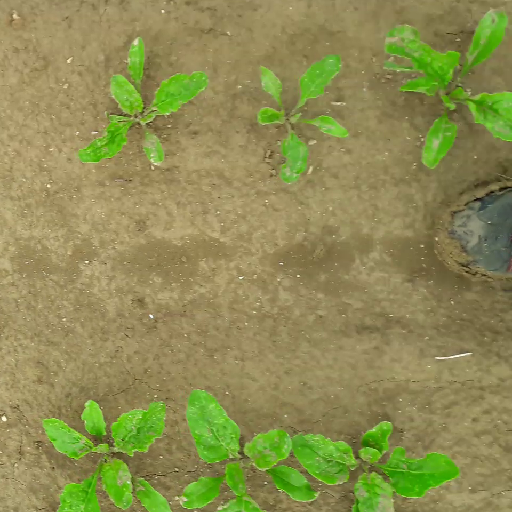sugarbeet: (376, 4, 512, 171), (75, 32, 212, 167), (177, 387, 324, 512), (292, 414, 463, 512), (33, 397, 173, 512), (245, 52, 351, 189)
